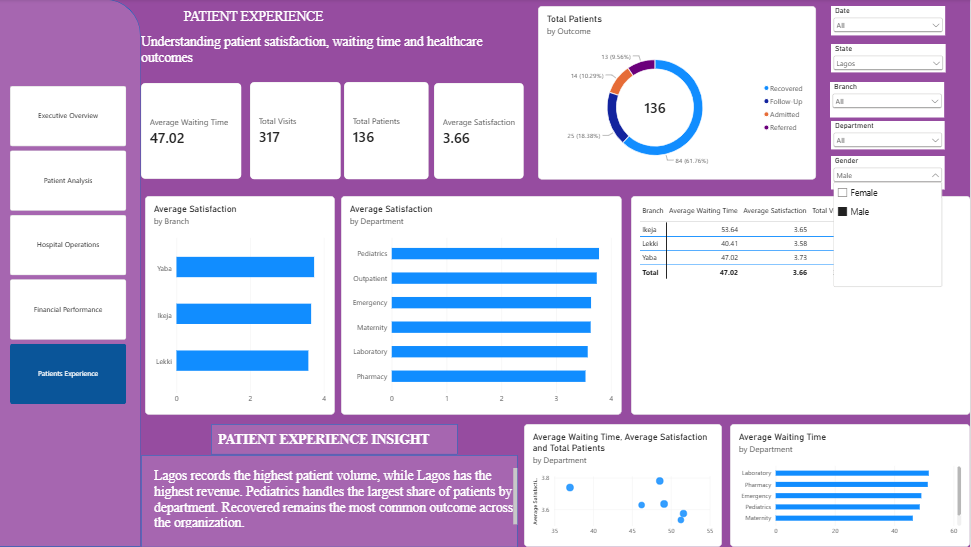

Layout of this report page (visuals, bound fields, positions):
{"tool":"powerbi","page":{"name":"Patients Experience","canvas":[1920,1080],"ordinal":4},"visuals":[{"type":"textbox","box":[284.9,0,743.2,144.5],"z":0},{"type":"cardVisual","fields":{"Data":["Date_Table.Average Satisfaction"]},"box":[863,165.2,177.5,189.9],"z":1000},{"type":"cardVisual","fields":{"Data":["Date_Table.Average Waiting Time"]},"box":[284.9,165.2,198.2,189.9],"z":2000},{"type":"cardVisual","fields":{"Data":["Date_Table.Total Patients"]},"box":[685.4,163.1,167.2,192],"z":3000},{"type":"cardVisual","fields":{"Data":["Date_Table.Total Visits"]},"box":[499.6,163.1,179.6,192],"z":4000},{"type":"clusteredBarChart","fields":{"Category":["Patient_Visits.Department"],"Y":["Date_Table.Average Satisfaction"]},"box":[679.2,388.1,553.3,431.5],"z":5000},{"type":"clusteredBarChart","fields":{"Category":["Patient_Visits.Branch"],"Y":["Date_Table.Average Satisfaction"]},"box":[294,388,373.7,431.5],"z":6000},{"type":"scatterChart","fields":{"Category":["Patient_Visits.Department"],"Size":["Date_Table.Total Patients"],"X":["Date_Table.Average Waiting Time"],"Y":["Date_Table.Average Satisfaction"]},"box":[1040.5,838.2,390.2,241.5],"z":8000},{"type":"donutChart","fields":{"Category":["Patient_Visits.Outcome"],"Y":["Date_Table.Total Patients"]},"box":[1068,14,548,342],"z":9000},{"type":"clusteredBarChart","fields":{"Category":["Patient_Visits.Department"],"Y":["Date_Table.Average Waiting Time"]},"box":[1447.2,838.2,472.8,241.5],"z":10000},{"type":"pivotTable","fields":{"Rows":["Patient_Visits.Branch"],"Values":["Date_Table.Average Waiting Time","Date_Table.Average Satisfaction","Date_Table.Total Visits","Date_Table.Total Patients"]},"box":[1251.1,388.1,668.9,431.5],"z":11000},{"type":"slicer","fields":{"Values":["Date_Table.Date"]},"box":[1646,14,225,57.8],"z":12000},{"type":"slicer","fields":{"Values":["Patient_Visits.State"]},"box":[1646,88,226,56],"z":13000},{"type":"slicer","fields":{"Values":["Patient_Visits.Branch"]},"box":[1644,164,225,70.2],"z":14000},{"type":"slicer","fields":{"Values":["Patient_Visits.Department"]},"box":[1646,240,224,56],"z":15000},{"type":"slicer","fields":{"Values":["Patient_Visits.Gender"]},"box":[1646,310,224,66],"z":16000},{"type":"shape","box":[0,0,284.9,1079.7],"z":17000},{"type":"pageNavigator","box":[26.8,171.4,229.2,627.6],"z":18000},{"type":"shape","box":[286,898,742,182],"z":18001},{"type":"textbox","box":[312,924,716,118],"z":18002},{"type":"shape","box":[424,838,486,60],"z":18003},{"type":"textbox","box":[438,854,458,44],"z":18004}]}

Visuals, with their boxes on the page's 1920x1080 design canvas (x1, y1, x2, y2). These are canvas units, not pixel positions in the 971x547 screenshot, which may show the page scaled, cropped or inside an application window:
textbox: l=285, t=0, r=1028, b=144
cardVisual - Date_Table.Average Satisfaction: l=863, t=165, r=1040, b=355
cardVisual - Date_Table.Average Waiting Time: l=285, t=165, r=483, b=355
cardVisual - Date_Table.Total Patients: l=685, t=163, r=853, b=355
cardVisual - Date_Table.Total Visits: l=500, t=163, r=679, b=355
clusteredBarChart - Patient_Visits.Department x Date_Table.Average Satisfaction: l=679, t=388, r=1232, b=820
clusteredBarChart - Patient_Visits.Branch x Date_Table.Average Satisfaction: l=294, t=388, r=668, b=820
scatterChart - Patient_Visits.Department x Date_Table.Total Patients: l=1040, t=838, r=1431, b=1080
donutChart - Patient_Visits.Outcome x Date_Table.Total Patients: l=1068, t=14, r=1616, b=356
clusteredBarChart - Patient_Visits.Department x Date_Table.Average Waiting Time: l=1447, t=838, r=1920, b=1080
pivotTable - Patient_Visits.Branch x Date_Table.Average Waiting Time: l=1251, t=388, r=1920, b=820
slicer - Date_Table.Date: l=1646, t=14, r=1871, b=72
slicer - Patient_Visits.State: l=1646, t=88, r=1872, b=144
slicer - Patient_Visits.Branch: l=1644, t=164, r=1869, b=234
slicer - Patient_Visits.Department: l=1646, t=240, r=1870, b=296
slicer - Patient_Visits.Gender: l=1646, t=310, r=1870, b=376
shape: l=0, t=0, r=285, b=1080
pageNavigator: l=27, t=171, r=256, b=799
shape: l=286, t=898, r=1028, b=1080
textbox: l=312, t=924, r=1028, b=1042
shape: l=424, t=838, r=910, b=898
textbox: l=438, t=854, r=896, b=898
